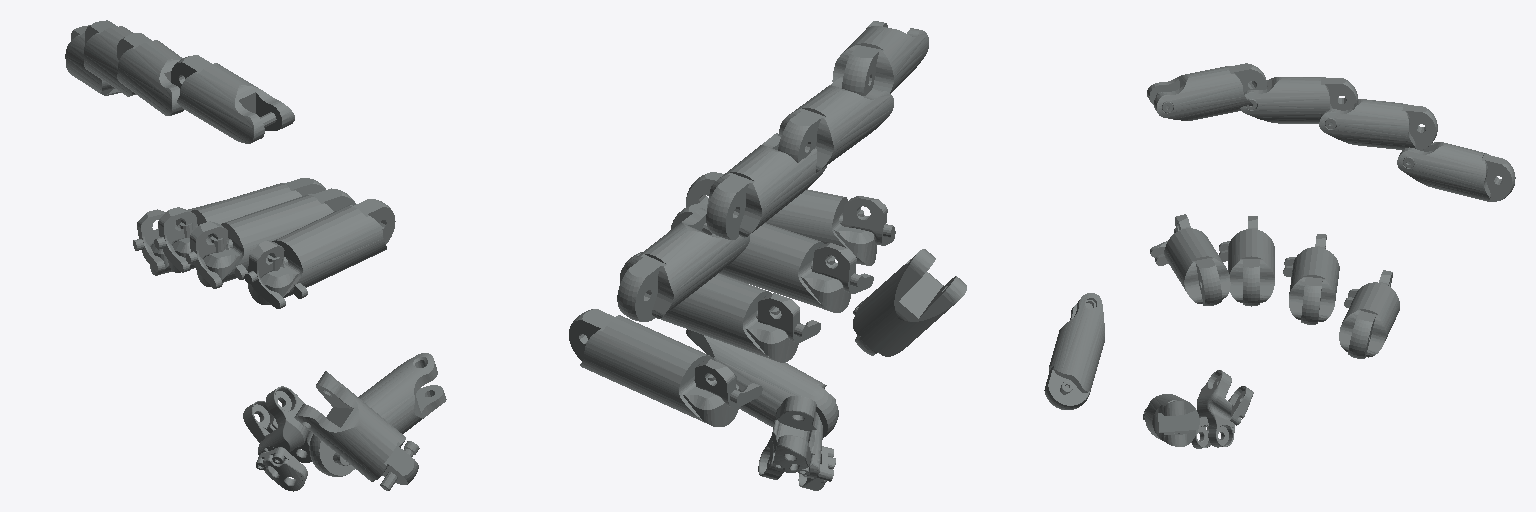
--- What the picture shows (computed from the rendered views, not written in the file) ---
3 views of the same robot in one strip: view 1: azimuth 30°, elevation 25°; view 2: azimuth 150°, elevation 25°; view 3: azimuth 270°, elevation 25° (orthographic).
Robot: wujihand-left-v1.0.1 — 26 links, 25 joints (20 revolute, 5 fixed); root link palm_link; default pose: all joints at 0.
Visible links, largest first — view 1: finger2_link2, finger1_link3, finger2_link3, finger1_link2, finger3_link2, finger1_link1, finger3_link3, finger4_link2, finger4_link3, finger2_link1, finger3_link1, finger4_link1 (+2 smaller); view 2: finger5_link2, finger5_link3, finger4_link3, finger1_link3, finger3_link2, finger4_link2, finger3_link3, finger1_link2, finger1_link1, finger2_link3, finger2_link2, finger3_link1 (+3 smaller); view 3: finger5_link3, finger1_link3, finger2_link3, finger4_link3, finger3_link3, finger2_link2, finger5_link2, finger4_link2, finger3_link2, finger1_link1, finger1_link2.
Link boxes in pixels (x1,y1,x2,y2): finger2_link2: (248, 199, 395, 304); finger1_link3: (294, 371, 419, 490); finger2_link3: (171, 55, 294, 143); finger1_link2: (309, 353, 446, 476); finger3_link2: (197, 188, 355, 286); finger1_link1: (243, 386, 312, 491); finger3_link3: (117, 33, 183, 115); finger4_link2: (168, 178, 325, 272); finger4_link3: (84, 20, 135, 96); finger2_link1: (244, 240, 307, 308); finger3_link1: (185, 221, 247, 288); finger4_link1: (154, 207, 197, 272); finger5_link2: (569, 309, 738, 426); finger5_link3: (617, 208, 749, 321); finger4_link3: (706, 133, 826, 239); finger1_link3: (853, 249, 966, 356); finger3_link2: (670, 203, 850, 312); finger4_link2: (620, 252, 798, 362); finger3_link3: (778, 77, 893, 172); finger1_link2: (686, 329, 838, 437); finger1_link1: (758, 396, 835, 490); finger2_link3: (832, 21, 928, 95); finger2_link2: (686, 172, 876, 265); finger3_link1: (811, 243, 873, 293); finger5_link3: (1397, 142, 1515, 201); finger1_link3: (1044, 293, 1104, 409); finger2_link3: (1147, 63, 1267, 120); finger4_link3: (1319, 99, 1437, 150); finger3_link3: (1240, 77, 1357, 123); finger2_link2: (1164, 228, 1230, 305); finger5_link2: (1339, 282, 1399, 358); finger4_link2: (1289, 247, 1339, 324); finger3_link2: (1228, 229, 1274, 306); finger1_link1: (1191, 370, 1253, 448); finger1_link2: (1143, 394, 1199, 446).
Size in the robot's own frame: 0.0717 by 0.151 by 0.1252 metres.
Meshes: 26 distinct files referenced, 15 mesh visuals loaded (15 binary STL); not drawn: 11 (reference not matched to a file when rendering).

robot.urdf — wujihand-left-v1.0.1:
<?xml version="1.0" encoding="utf-8"?>
<robot
  name="wujihand-left-v1.0.1">
  <link
    name="palm_link">
    <inertial>
      <origin
        xyz="-0.0029386 -0.0006128 0.036666"
        rpy="0 0 0" />
      <mass
        value="0.2179" />
      <inertia
        ixx="0.00066022"
        ixy="-2.5411E-06"
        ixz="2.4318E-05"
        iyy="0.0004381"
        iyz="4.5375E-05"
        izz="0.00029633" />
    </inertial>
    <visual>
      <origin
        xyz="0 0 0"
        rpy="0 0 0" />
      <geometry>
        <mesh
          filename="package://wujihand-urdf/meshes/left/palm_link.STL" />
      </geometry>
      <material
        name="">
        <color
          rgba="0.52941 0.54902 0.54902 1" />
      </material>
    </visual>
    <collision>
      <origin
        xyz="0 0 0"
        rpy="0 0 0" />
      <geometry>
        <mesh
          filename="package://wujihand-urdf/meshes/left/palm_link.STL" />
      </geometry>
    </collision>
  </link>
  <link
    name="finger1_link1">
    <inertial>
      <origin
        xyz="0.0077866 -0.0015915 0.0021115"
        rpy="0 0 0" />
      <mass
        value="0.0075" />
      <inertia
        ixx="3.7774E-07"
        ixy="-1.5296E-08"
        ixz="-7.9605E-08"
        iyy="4.5047E-07"
        iyz="-7.7314E-09"
        izz="4.0193E-07" />
    </inertial>
    <visual>
      <origin
        xyz="0 0 0"
        rpy="0 0 0" />
      <geometry>
        <mesh
          filename="package://wujihand-urdf/meshes/left/finger1_link1.STL" />
      </geometry>
      <material
        name="">
        <color
          rgba="0.52941 0.54902 0.54902 1" />
      </material>
    </visual>
    <collision>
      <origin
        xyz="0 0 0"
        rpy="0 0 0" />
      <geometry>
        <mesh
          filename="package://wujihand-urdf/meshes/left/finger1_link1.STL" />
      </geometry>
    </collision>
  </link>
  <joint
    name="finger1_joint1"
    type="revolute">
    <origin
      xyz="0.0085244 -0.020575 0.028712"
      rpy="0.38179 -0.2259 -0.92978" />
    <parent
      link="palm_link" />
    <child
      link="finger1_link1" />
    <axis
      xyz="0 0 -1" />
    <limit
      lower="-1.6508"
      upper="0.0448"
      effort="0.6"
      velocity="8.587" />
  </joint>
  <link
    name="finger1_link2">
    <inertial>
      <origin
        xyz="0.015665 0.0011444 2.8617E-05"
        rpy="0 0 0" />
      <mass
        value="0.0248" />
      <inertia
        ixx="1.1847E-06"
        ixy="2.639E-08"
        ixz="-1.9577E-08"
        iyy="4.7918E-06"
        iyz="-3.0153E-08"
        izz="4.8942E-06" />
    </inertial>
    <visual>
      <origin
        xyz="0 0 0"
        rpy="0 0 0" />
      <geometry>
        <mesh
          filename="package://wujihand-urdf/meshes/left/finger1_link2.STL" />
      </geometry>
      <material
        name="">
        <color
          rgba="0.52941 0.54902 0.54902 1" />
      </material>
    </visual>
    <collision>
      <origin
        xyz="0 0 0"
        rpy="0 0 0" />
      <geometry>
        <mesh
          filename="package://wujihand-urdf/meshes/left/finger1_link2.STL" />
      </geometry>
    </collision>
  </link>
  <joint
    name="finger1_joint2"
    type="revolute">
    <origin
      xyz="0.014132 -0.0047549 0.0060191"
      rpy="-1.6442 -0.32223 -0.53456" />
    <parent
      link="finger1_link1" />
    <child
      link="finger1_link2" />
    <axis
      xyz="0 0 -1" />
    <limit
      lower="-0.1659"
      upper="0.9339"
      effort="0.6"
      velocity="11.1" />
  </joint>
  <link
    name="finger1_link3">
    <inertial>
      <origin
        xyz="0.013057 -0.0011233 1.7104E-05"
        rpy="0 0 0" />
      <mass
        value="0.0165" />
      <inertia
        ixx="9.7983E-07"
        ixy="-4.8256E-08"
        ixz="2.8279E-09"
        iyy="3.1725E-06"
        iyz="-5.5362E-11"
        izz="3.1014E-06" />
    </inertial>
    <visual>
      <origin
        xyz="0 0 0"
        rpy="0 0 0" />
      <geometry>
        <mesh
          filename="package://wujihand-urdf/meshes/left/finger1_link3.STL" />
      </geometry>
      <material
        name="">
        <color
          rgba="0.52941 0.54902 0.54902 1" />
      </material>
    </visual>
    <collision>
      <origin
        xyz="0 0 0"
        rpy="0 0 0" />
      <geometry>
        <mesh
          filename="package://wujihand-urdf/meshes/left/finger1_link3.STL" />
      </geometry>
    </collision>
  </link>
  <joint
    name="finger1_joint3"
    type="revolute">
    <origin
      xyz="0.034664 0.00018873 0.0009916"
      rpy="1.909 -6.6317E-05 -0.052012" />
    <parent
      link="finger1_link2" />
    <child
      link="finger1_link3" />
    <axis
      xyz="0 0 1" />
    <limit
      lower="-0.4932"
      upper="1.6272"
      effort="0.3"
      velocity="12.863" />
  </joint>
  <link
    name="finger1_link4">
    <inertial>
      <origin
        xyz="0.0082112 -0.0011922 -0.00023586"
        rpy="0 0 0" />
      <mass
        value="0.0165" />
      <inertia
        ixx="6.2056E-07"
        ixy="-1.5552E-08"
        ixz="2.78E-09"
        iyy="1.0613E-06"
        iyz="-4.1371E-10"
        izz="1.0896E-06" />
    </inertial>
    <visual>
      <origin
        xyz="0 0 0"
        rpy="0 0 0" />
      <geometry>
        <mesh
          filename="package://wujihand-urdf/meshes/left/finger1_link4.STL" />
      </geometry>
      <material
        name="">
        <color
          rgba="0.52941 0.54902 0.54902 1" />
      </material>
    </visual>
    <collision>
      <origin
        xyz="0 0 0"
        rpy="0 0 0" />
      <geometry>
        <mesh
          filename="package://wujihand-urdf/meshes/left/finger1_link4.STL" />
      </geometry>
    </collision>
  </link>
  <joint
    name="finger1_joint4"
    type="revolute">
    <origin
      xyz="0.0295 0 0.00025125"
      rpy="0 0 0" />
    <parent
      link="finger1_link3" />
    <child
      link="finger1_link4" />
    <axis
      xyz="0 0 1" />
    <limit
      lower="-0.4932"
      upper="1.6272"
      effort="0.3"
      velocity="13.579" />
  </joint>
  <link
    name="finger1_tip_link">
    <inertial>
      <origin
        xyz="-0.0041779 -0.00018195 -7.9626E-06"
        rpy="0 0 0" />
      <mass
        value="0.004" />
      <inertia
        ixx="4.8332E-07"
        ixy="2.015E-08"
        ixz="-3.722E-12"
        iyy="5.4735E-07"
        iyz="1.4833E-11"
        izz="5.4481E-07" />
    </inertial>
    <visual>
      <origin
        xyz="0 0 0"
        rpy="0 0 0" />
      <geometry>
        <mesh
          filename="package://wujihand-urdf/meshes/left/finger1_tip_link.STL" />
      </geometry>
      <material
        name="">
        <color
          rgba="0.52941 0.54902 0.54902 1" />
      </material>
    </visual>
    <collision>
      <origin
        xyz="0 0 0"
        rpy="0 0 0" />
      <geometry>
        <mesh
          filename="package://wujihand-urdf/meshes/left/finger1_tip_link.STL" />
      </geometry>
    </collision>
  </link>
  <joint
    name="finger1_tip_fixed"
    type="fixed">
    <origin
      xyz="0.0283 -0.0010446 -0.00024656"
      rpy="0 0 0" />
    <parent
      link="finger1_link4" />
    <child
      link="finger1_tip_link" />
    <axis
      xyz="0 0 0" />
  </joint>
  <link
    name="finger2_link1">
    <inertial>
      <origin
        xyz="8.5597E-09 0.0013292 0.00031986"
        rpy="0 0 0" />
      <mass
        value="0.0032" />
      <inertia
        ixx="6.6291E-08"
        ixy="2.8907E-13"
        ixz="2.0012E-14"
        iyy="7.6187E-08"
        iyz="2.3233E-08"
        izz="7.0732E-08" />
    </inertial>
    <visual>
      <origin
        xyz="0 0 0"
        rpy="0 0 0" />
      <geometry>
        <mesh
          filename="package://wujihand-urdf/meshes/left/finger2_link1.STL" />
      </geometry>
      <material
        name="">
        <color
          rgba="0.52941 0.54902 0.54902 1" />
      </material>
    </visual>
    <collision>
      <origin
        xyz="0 0 0"
        rpy="0 0 0" />
      <geometry>
        <mesh
          filename="package://wujihand-urdf/meshes/left/finger2_link1.STL" />
      </geometry>
    </collision>
  </link>
  <joint
    name="finger2_joint1"
    type="revolute">
    <origin
      xyz="-0.0058701 -0.029434 0.091917"
      rpy="-0.071558 -0.11043 1.7969" />
    <parent
      link="palm_link" />
    <child
      link="finger2_link1" />
    <axis
      xyz="1 0 0" />
    <limit
      lower="-0.32695"
      upper="1.636"
      effort="1"
      velocity="8.203" />
  </joint>
  <link
    name="finger2_link2">
    <inertial>
      <origin
        xyz="0.020911 4.1956E-07 -0.0061576"
        rpy="0 0 0" />
      <mass
        value="0.033" />
      <inertia
        ixx="1.6351E-06"
        ixy="-4.5296E-10"
        ixz="-2.9306E-07"
        iyy="1.1709E-05"
        iyz="4.685E-11"
        izz="1.1667E-05" />
    </inertial>
    <visual>
      <origin
        xyz="0 0 0"
        rpy="0 0 0" />
      <geometry>
        <mesh
          filename="package://wujihand-urdf/meshes/left/finger2_link2.STL" />
      </geometry>
      <material
        name="">
        <color
          rgba="0.52941 0.54902 0.54902 1" />
      </material>
    </visual>
    <collision>
      <origin
        xyz="0 0 0"
        rpy="0 0 0" />
      <geometry>
        <mesh
          filename="package://wujihand-urdf/meshes/left/finger2_link2.STL" />
      </geometry>
    </collision>
  </link>
  <joint
    name="finger2_joint2"
    type="revolute">
    <origin
      xyz="0 -0.0022 0.004"
      rpy="1.5708 -1.5708 0" />
    <parent
      link="finger2_link1" />
    <child
      link="finger2_link2" />
    <axis
      xyz="0 0 1" />
    <limit
      lower="-0.495"
      upper="0.495"
      effort="0.2"
      velocity="8.1158" />
  </joint>
  <link
    name="finger2_link3">
    <inertial>
      <origin
        xyz="0.015762 -0.0011212 4.4346E-06"
        rpy="0 0 0" />
      <mass
        value="0.0165" />
      <inertia
        ixx="1.2547E-07"
        ixy="9.7115E-09"
        ixz="3.5406E-10"
        iyy="4.1467E-07"
        iyz="-5.2912E-12"
        izz="4.0546E-07" />
    </inertial>
    <visual>
      <origin
        xyz="0 0 0"
        rpy="0 0 0" />
      <geometry>
        <mesh
          filename="package://wujihand-urdf/meshes/left/finger2_link3.STL" />
      </geometry>
      <material
        name="">
        <color
          rgba="0.52941 0.54902 0.54902 1" />
      </material>
    </visual>
    <collision>
      <origin
        xyz="0 0 0"
        rpy="0 0 0" />
      <geometry>
        <mesh
          filename="package://wujihand-urdf/meshes/left/finger2_link3.STL" />
      </geometry>
    </collision>
  </link>
  <joint
    name="finger2_joint3"
    type="revolute">
    <origin
      xyz="0.043618 0 -0.00475"
      rpy="1.5705 0 0" />
    <parent
      link="finger2_link2" />
    <child
      link="finger2_link3" />
    <axis
      xyz="0 0 -1" />
    <limit
      lower="-1.6272"
      upper="0.4932"
      effort="0.3"
      velocity="12.863" />
  </joint>
  <link
    name="finger2_link4">
    <inertial>
      <origin
        xyz="0.0053515 -0.0008941 1.728E-05"
        rpy="0 0 0" />
      <mass
        value="0.014" />
      <inertia
        ixx="3.1641E-07"
        ixy="1.2437E-08"
        ixz="6.7383E-10"
        iyy="3.8841E-07"
        iyz="6.4931E-11"
        izz="2.7389E-07" />
    </inertial>
    <visual>
      <origin
        xyz="0 0 0"
        rpy="0 0 0" />
      <geometry>
        <mesh
          filename="package://wujihand-urdf/meshes/left/finger2_link4.STL" />
      </geometry>
      <material
        name="">
        <color
          rgba="0.52941 0.54902 0.54902 1" />
      </material>
    </visual>
    <collision>
      <origin
        xyz="0 0 0"
        rpy="0 0 0" />
      <geometry>
        <mesh
          filename="package://wujihand-urdf/meshes/left/finger2_link4.STL" />
      </geometry>
    </collision>
  </link>
  <joint
    name="finger2_joint4"
    type="revolute">
    <origin
      xyz="0.0295 0 0"
      rpy="0 0 0" />
    <parent
      link="finger2_link3" />
    <child
      link="finger2_link4" />
    <axis
      xyz="0 0 -1" />
    <limit
      lower="-1.6272"
      upper="0.4932"
      effort="0.3"
      velocity="13.579" />
  </joint>
  <link
    name="finger2_tip_link">
    <inertial>
      <origin
        xyz="-0.008611 -0.00020326 1.4382E-06"
        rpy="0 0 0" />
      <mass
        value="0.004" />
      <inertia
        ixx="4.7341E-07"
        ixy="2.4342E-08"
        ixz="-1.6843E-10"
        iyy="6.4345E-07"
        iyz="4.3043E-11"
        izz="6.3746E-07" />
    </inertial>
    <visual>
      <origin
        xyz="0 0 0"
        rpy="0 0 0" />
      <geometry>
        <mesh
          filename="package://wujihand-urdf/meshes/left/finger2_tip_link.STL" />
      </geometry>
      <material
        name="">
        <color
          rgba="0.52941 0.54902 0.54902 1" />
      </material>
    </visual>
    <collision>
      <origin
        xyz="0 0 0"
        rpy="0 0 0" />
      <geometry>
        <mesh
          filename="package://wujihand-urdf/meshes/left/finger2_tip_link.STL" />
      </geometry>
    </collision>
  </link>
  <joint
    name="finger2_tip_fixed"
    type="fixed">
    <origin
      xyz="0.0267 -0.00105 0"
      rpy="0 0 0" />
    <parent
      link="finger2_link4" />
    <child
      link="finger2_tip_link" />
    <axis
      xyz="0 0 0" />
  </joint>
  <link
    name="finger3_link1">
    <inertial>
      <origin
        xyz="8.8518E-09 0.0013292 0.00031987"
        rpy="0 0 0" />
      <mass
        value="0.0032" />
      <inertia
        ixx="6.6291E-08"
        ixy="1.9964E-13"
        ixz="3.1051E-14"
        iyy="7.6187E-08"
        iyz="2.3233E-08"
        izz="7.0732E-08" />
    </inertial>
    <visual>
      <origin
        xyz="0 0 0"
        rpy="0 0 0" />
      <geometry>
        <mesh
          filename="package://wujihand-urdf/meshes/left/finger3_link1.STL" />
      </geometry>
      <material
        name="">
        <color
          rgba="0.52941 0.54902 0.54902 1" />
      </material>
    </visual>
    <collision>
      <origin
        xyz="0 0 0"
        rpy="0 0 0" />
      <geometry>
        <mesh
          filename="package://wujihand-urdf/meshes/left/finger3_link1.STL" />
      </geometry>
    </collision>
  </link>
  <joint
    name="finger3_joint1"
    type="revolute">
    <origin
      xyz="-0.01046 -0.0074615 0.089544"
      rpy="-0.087266 -5.0693E-05 1.5702" />
    <parent
      link="palm_link" />
    <child
      link="finger3_link1" />
    <axis
      xyz="-1 0 0" />
    <limit
      lower="-1.63595"
      upper="0.32695"
      effort="1"
      velocity="8.203" />
  </joint>
  <link
    name="finger3_link2">
    <inertial>
      <origin
        xyz="0.020911 4.1751E-07 -0.0061576"
        rpy="0 0 0" />
      <mass
        value="0.033" />
      <inertia
        ixx="1.6351E-06"
        ixy="-4.5421E-10"
        ixz="-2.9307E-07"
        iyy="1.1709E-05"
        iyz="4.5277E-11"
        izz="1.1667E-05" />
    </inertial>
    <visual>
      <origin
        xyz="0 0 0"
        rpy="0 0 0" />
      <geometry>
        <mesh
          filename="package://wujihand-urdf/meshes/left/finger3_link2.STL" />
      </geometry>
      <material
        name="">
        <color
          rgba="0.52941 0.54902 0.54902 1" />
      </material>
    </visual>
    <collision>
      <origin
        xyz="0 0 0"
        rpy="0 0 0" />
      <geometry>
        <mesh
          filename="package://wujihand-urdf/meshes/left/finger3_link2.STL" />
      </geometry>
    </collision>
  </link>
  <joint
    name="finger3_joint2"
    type="revolute">
    <origin
      xyz="0 -0.0022 0.004"
      rpy="1.5708 -1.5708 0" />
    <parent
      link="finger3_link1" />
    <child
      link="finger3_link2" />
    <axis
      xyz="0 0 -1" />
    <limit
      lower="-0.495"
      upper="0.495"
      effort="0.2"
      velocity="8.115" />
  </joint>
  <link
    name="finger3_link3">
    <inertial>
      <origin
        xyz="0.015762 -0.0011212 4.4348E-06"
        rpy="0 0 0" />
      <mass
        value="0.0165" />
      <inertia
        ixx="9.7867E-07"
        ixy="7.575E-08"
        ixz="2.7623E-09"
        iyy="3.2344E-06"
        iyz="-4.1476E-11"
        izz="3.1626E-06" />
    </inertial>
    <visual>
      <origin
        xyz="0 0 0"
        rpy="0 0 0" />
      <geometry>
        <mesh
          filename="package://wujihand-urdf/meshes/left/finger3_link3.STL" />
      </geometry>
      <material
        name="">
        <color
          rgba="0.52941 0.54902 0.54902 1" />
      </material>
    </visual>
    <collision>
      <origin
        xyz="0 0 0"
        rpy="0 0 0" />
      <geometry>
        <mesh
          filename="package://wujihand-urdf/meshes/left/finger3_link3.STL" />
      </geometry>
    </collision>
  </link>
  <joint
    name="finger3_joint3"
    type="revolute">
    <origin
      xyz="0.043618 0 -0.00475"
      rpy="1.5705 0 0" />
    <parent
      link="finger3_link2" />
    <child
      link="finger3_link3" />
    <axis
      xyz="0 0 -1" />
    <limit
      lower="-1.6272"
      upper="0.4932"
      effort="0.3"
      velocity="12.863" />
  </joint>
  <link
    name="finger3_link4">
    <inertial>
      <origin
        xyz="0.0053515 -0.0008941 1.7281E-05"
        rpy="0 0 0" />
      <mass
        value="0.014" />
      <inertia
        ixx="3.1641E-07"
        ixy="1.2437E-08"
        ixz="6.7377E-10"
        iyy="3.8841E-07"
        iyz="6.5066E-11"
        izz="2.7389E-07" />
    </inertial>
    <visual>
      <origin
        xyz="0 0 0"
        rpy="0 0 0" />
      <geometry>
        <mesh
          filename="package://wujihand-urdf/meshes/left/finger3_link4.STL" />
      </geometry>
      <material
        name="">
        <color
          rgba="0.52941 0.54902 0.54902 1" />
      </material>
    </visual>
    <collision>
      <origin
        xyz="0 0 0"
        rpy="0 0 0" />
      <geometry>
        <mesh
          filename="package://wujihand-urdf/meshes/left/finger3_link4.STL" />
      </geometry>
    </collision>
  </link>
  <joint
    name="finger3_joint4"
    type="revolute">
    <origin
      xyz="0.0295 0 0"
      rpy="0 0 0" />
    <parent
      link="finger3_link3" />
    <child
      link="finger3_link4" />
    <axis
      xyz="0 0 -1" />
    <limit
      lower="-1.6272"
      upper="0.4932"
      effort="0.3"
      velocity="13.579" />
  </joint>
  <link
    name="finger3_tip_link">
    <inertial>
      <origin
        xyz="-0.0086111 -0.00020296 -1.0223E-05"
        rpy="0 0 0" />
      <mass
        value="0.004" />
      <inertia
        ixx="4.734E-07"
        ixy="2.4301E-08"
        ixz="1.2293E-09"
        iyy="6.4343E-07"
        iyz="3.8698E-10"
        izz="6.3748E-07" />
    </inertial>
    <visual>
      <origin
        xyz="0 0 0"
        rpy="0 0 0" />
      <geometry>
        <mesh
          filename="package://wujihand-urdf/meshes/left/finger3_tip_link.STL" />
      </geometry>
      <material
        name="">
        <color
          rgba="0.52941 0.54902 0.54902 1" />
      </material>
    </visual>
    <collision>
      <origin
        xyz="0 0 0"
        rpy="0 0 0" />
      <geometry>
        <mesh
          filename="package://wujihand-urdf/meshes/left/finger3_tip_link.STL" />
      </geometry>
    </collision>
  </link>
  <joint
    name="finger3_tip_fixed"
    type="fixed">
    <origin
      xyz="0.0267 -0.0010501 0"
      rpy="0 0 0" />
    <parent
      link="finger3_link4" />
    <child
      link="finger3_tip_link" />
    <axis
      xyz="0 0 0" />
  </joint>
  <link
    name="finger4_link1">
    <inertial>
      <origin
        xyz="8.6118E-09 0.0013292 0.00031987"
        rpy="0 0 0" />
      <mass
        value="0.0032" />
      <inertia
        ixx="6.6291E-08"
        ixy="1.7489E-13"
        ixz="3.6221E-14"
        iyy="7.6187E-08"
        iyz="2.3233E-08"
        izz="7.0732E-08" />
    </inertial>
    <visual>
      <origin
        xyz="0 0 0"
        rpy="0 0 0" />
      <geometry>
        <mesh
          filename="package://wujihand-urdf/meshes/left/finger4_link1.STL" />
      </geometry>
      <material
        name="">
        <color
          rgba="0.52941 0.54902 0.54902 1" />
      </material>
    </visual>
    <collision>
      <origin
        xyz="0 0 0"
        rpy="0 0 0" />
      <geometry>
        <mesh
          filename="package://wujihand-urdf/meshes/left/finger4_link1.STL" />
      </geometry>
    </collision>
  </link>
  <joint
    name="finger4_joint1"
    type="revolute">
    <origin
      xyz="-0.0076649 0.013712 0.084429"
      rpy="-0.083776 0.090059 1.5161" />
    <parent
      link="palm_link" />
    <child
      link="finger4_link1" />
    <axis
      xyz="-1 0 0" />
    <limit
      lower="-1.63595"
      upper="0.32695"
      effort="1"
      velocity="8.203" />
  </joint>
  <link
    name="finger4_link2">
    <inertial>
      <origin
        xyz="0.020911 4.1777E-07 -0.0061576"
        rpy="0 0 0" />
      <mass
        value="0.033" />
      <inertia
        ixx="1.6351E-06"
        ixy="-4.5403E-10"
        ixz="-2.9307E-07"
        iyy="1.1709E-05"
        iyz="4.5361E-11"
        izz="1.1667E-05" />
    </inertial>
    <visual>
      <origin
        xyz="0 0 0"
        rpy="0 0 0" />
      <geometry>
        <mesh
          filename="package://wujihand-urdf/meshes/left/finger4_link2.STL" />
      </geometry>
      <material
        name="">
        <color
          rgba="0.52941 0.54902 0.54902 1" />
      </material>
    </visual>
    <collision>
      <origin
        xyz="0 0 0"
        rpy="0 0 0" />
      <geometry>
        <mesh
          filename="package://wujihand-urdf/meshes/left/finger4_link2.STL" />
      </geometry>
    </collision>
  </link>
  <joint
    name="finger4_joint2"
    type="revolute">
    <origin
      xyz="0 -0.0022 0.004"
      rpy="1.5708 -1.5708 0" />
    <parent
      link="finger4_link1" />
    <child
      link="finger4_link2" />
    <axis
      xyz="0 0 -1" />
    <limit
      lower="-0.495"
      upper="0.495"
      effort="0.2"
      velocity="8.1158" />
  </joint>
  <link
    name="finger4_link3">
    <inertial>
      <origin
        xyz="0.015762 -0.0011212 4.435E-06"
        rpy="0 0 0" />
      <mass
        value="0.0165" />
      <inertia
        ixx="9.7867E-07"
        ixy="7.575E-08"
        ixz="2.7625E-09"
        iyy="3.2344E-06"
        iyz="-4.1504E-11"
        izz="3.1626E-06" />
    </inertial>
    <visual>
      <origin
        xyz="0 0 0"
        rpy="0 0 0" />
      <geometry>
        <mesh
          filename="package://wujihand-urdf/meshes/left/finger4_link3.STL" />
      </geometry>
      <material
        name="">
        <color
          rgba="0.52941 0.54902 0.54902 1" />
      </material>
    </visual>
    <collision>
      <origin
        xyz="0 0 0"
        rpy="0 0 0" />
      <geometry>
        <mesh
          filename="package://wujihand-urdf/meshes/left/finger4_link3.STL" />
      </geometry>
    </collision>
  </link>
  <joint
    name="finger4_joint3"
    type="revolute">
    <origin
      xyz="0.043618 0 -0.00475"
      rpy="1.5705 0 0" />
    <parent
      link="finger4_link2" />
    <child
      link="finger4_link3" />
    <axis
      xyz="0 0 -1" />
    <limit
      lower="-1.6272"
      upper="0.4932"
      effort="0.3"
      velocity="12.863" />
  </joint>
  <link
    name="finger4_link4">
    <inertial>
      <origin
        xyz="0.0053515 -0.0008941 1.7282E-05"
        rpy="0 0 0" />
      <mass
        value="0.014" />
      <inertia
        ixx="3.1641E-07"
        ixy="1.2437E-08"
        ixz="6.7382E-10"
        iyy="3.8841E-07"
        iyz="6.5108E-11"
        izz="2.7389E-07" />
    </inertial>
    <visual>
      <origin
        xyz="0 0 0"
        rpy="0 0 0" />
      <geometry>
        <mesh
          filename="package://wujihand-urdf/meshes/left/finger4_link4.STL" />
      </geometry>
      <material
        name="">
        <color
          rgba="0.52941 0.54902 0.54902 1" />
      </material>
    </visual>
    <collision>
      <origin
        xyz="0 0 0"
        rpy="0 0 0" />
      <geometry>
        <mesh
          filename="package://wujihand-urdf/meshes/left/finger4_link4.STL" />
      </geometry>
    </collision>
  </link>
  <joint
    name="finger4_joint4"
    type="revolute">
    <origin
      xyz="0.0295 0 0"
      rpy="0 0 0" />
    <parent
      link="finger4_link3" />
    <child
      link="finger4_link4" />
    <axis
      xyz="0 0 -1" />
    <limit
      lower="-1.6272"
      upper="0.4932"
      effort="0.3"
      velocity="13.579" />
  </joint>
  <link
    name="finger4_tip_link">
    <inertial>
      <origin
        xyz="-0.008611 -0.0001955 5.5653E-05"
        rpy="0 0 0" />
      <mass
        value="0.004" />
      <inertia
        ixx="4.7341E-07"
        ixy="2.3414E-08"
        ixz="-6.6606E-09"
        iyy="6.4304E-07"
        iyz="-1.5033E-09"
        izz="6.3787E-07" />
    </inertial>
    <visual>
      <origin
        xyz="0 0 0"
        rpy="0 0 0" />
      <geometry>
        <mesh
          filename="package://wujihand-urdf/meshes/left/finger4_tip_link.STL" />
      </geometry>
      <material
        name="">
        <color
          rgba="0.52941 0.54902 0.54902 1" />
      </material>
    </visual>
    <collision>
      <origin
        xyz="0 0 0"
        rpy="0 0 0" />
      <geometry>
        <mesh
          filename="package://wujihand-urdf/meshes/left/finger4_tip_link.STL" />
      </geometry>
    </collision>
  </link>
  <joint
    name="finger4_tip_fixed"
    type="fixed">
    <origin
      xyz="0.0267 -0.0010573 0"
      rpy="0 0 0" />
    <parent
      link="finger4_link4" />
    <child
      link="finger4_tip_link" />
    <axis
      xyz="0 0 0" />
  </joint>
  <link
    name="finger5_link1">
    <inertial>
      <origin
        xyz="8.147E-09 0.0013292 0.00031987"
        rpy="0 0 0" />
      <mass
        value="0.0032" />
      <inertia
        ixx="6.6291E-08"
        ixy="1.2911E-13"
        ixz="4.2957E-14"
        iyy="7.6187E-08"
        iyz="2.3232E-08"
        izz="7.0732E-08" />
    </inertial>
    <visual>
      <origin
        xyz="0 0 0"
        rpy="0 0 0" />
      <geometry>
        <mesh
          filename="package://wujihand-urdf/meshes/left/finger5_link1.STL" />
      </geometry>
      <material
        name="">
        <color
          rgba="0.52941 0.54902 0.54902 1" />
      </material>
    </visual>
    <collision>
      <origin
        xyz="0 0 0"
        rpy="0 0 0" />
      <geometry>
        <mesh
          filename="package://wujihand-urdf/meshes/left/finger5_link1.STL" />
      </geometry>
    </collision>
  </link>
  <joint
    name="finger5_joint1"
    type="revolute">
    <origin
      xyz="-0.0022687 0.034001 0.074281"
      rpy="-0.094248 0.19165 1.3951" />
    <parent
      link="palm_link" />
    <child
      link="finger5_link1" />
    <axis
      xyz="1 0 0" />
    <limit
      lower="-0.32695"
      upper="1.636"
      effort="1"
      velocity="8.203" />
  </joint>
  <link
    name="finger5_link2">
    <inertial>
      <origin
        xyz="0.020911 4.2003E-07 -0.0061576"
        rpy="0 0 0" />
      <mass
        value="0.033" />
      <inertia
        ixx="1.6351E-06"
        ixy="-4.5138E-10"
        ixz="-2.9307E-07"
        iyy="1.1709E-05"
        iyz="4.5514E-11"
        izz="1.1667E-05" />
    </inertial>
    <visual>
      <origin
        xyz="0 0 0"
        rpy="0 0 0" />
      <geometry>
        <mesh
          filename="package://wujihand-urdf/meshes/left/finger5_link2.STL" />
      </geometry>
      <material
        name="">
        <color
          rgba="0.52941 0.54902 0.54902 1" />
      </material>
    </visual>
    <collision>
      <origin
        xyz="0 0 0"
        rpy="0 0 0" />
      <geometry>
        <mesh
          filename="package://wujihand-urdf/meshes/left/finger5_link2.STL" />
      </geometry>
    </collision>
  </link>
  <joint
    name="finger5_joint2"
    type="revolute">
    <origin
      xyz="0 -0.0022 0.004"
      rpy="-0.0067566 -1.5708 1.5776" />
    <parent
      link="finger5_link1" />
    <child
      link="finger5_link2" />
    <axis
      xyz="0 0 -1" />
    <limit
      lower="-0.495"
      upper="0.495"
      effort="0.2"
      velocity="8.1158" />
  </joint>
  <link
    name="finger5_link3">
    <inertial>
      <origin
        xyz="0.015762 -0.0011212 4.4351E-06"
        rpy="0 0 0" />
      <mass
        value="0.0165" />
      <inertia
        ixx="9.7867E-07"
        ixy="7.575E-08"
        ixz="2.7623E-09"
        iyy="3.2344E-06"
        iyz="-4.1485E-11"
        izz="3.1626E-06" />
    </inertial>
    <visual>
      <origin
        xyz="0 0 0"
        rpy="0 0 0" />
      <geometry>
        <mesh
          filename="package://wujihand-urdf/meshes/left/finger5_link3.STL" />
      </geometry>
      <material
        name="">
        <color
          rgba="0.52941 0.54902 0.54902 1" />
      </material>
    </visual>
    <collision>
      <origin
        xyz="0 0 0"
        rpy="0 0 0" />
      <geometry>
        <mesh
          filename="package://wujihand-urdf/meshes/left/finger5_link3.STL" />
      </geometry>
    </collision>
  </link>
  <joint
    name="finger5_joint3"
    type="revolute">
    <origin
      xyz="0.043618 0 -0.00475"
      rpy="1.5705 0 0" />
    <parent
      link="finger5_link2" />
    <child
      link="finger5_link3" />
    <axis
      xyz="0 0 -1" />
    <limit
      lower="-1.6272"
      upper="0.4932"
      effort="0.3"
      velocity="12.863" />
  </joint>
  <link
    name="finger5_link4">
    <inertial>
      <origin
        xyz="0.0053515 -0.0008941 1.7282E-05"
        rpy="0 0 0" />
      <mass
        value="0.014" />
      <inertia
        ixx="3.1641E-07"
        ixy="1.2437E-08"
        ixz="6.7385E-10"
        iyy="3.8841E-07"
        iyz="6.5073E-11"
        izz="2.7389E-07" />
    </inertial>
    <visual>
      <origin
        xyz="0 0 0"
        rpy="0 0 0" />
      <geometry>
        <mesh
          filename="package://wujihand-urdf/meshes/left/finger5_link4.STL" />
      </geometry>
      <material
        name="">
        <color
          rgba="0.52941 0.54902 0.54902 1" />
      </material>
    </visual>
    <collision>
      <origin
        xyz="0 0 0"
        rpy="0 0 0" />
      <geometry>
        <mesh
          filename="package://wujihand-urdf/meshes/left/finger5_link4.STL" />
      </geometry>
    </collision>
  </link>
  <joint
    name="finger5_joint4"
    type="revolute">
    <origin
      xyz="0.0295 0 0"
      rpy="0 0 0" />
    <parent
      link="finger5_link3" />
    <child
      link="finger5_link4" />
    <axis
      xyz="0 0 1" />
    <limit
      lower="-0.4932"
      upper="1.6272"
      effort="0.3"
      velocity="13.579" />
  </joint>
  <link
    name="finger5_tip_link">
    <inertial>
      <origin
        xyz="-0.008611 -0.00020323 3.5536E-06"
        rpy="0 0 0" />
      <mass
        value="0.004" />
      <inertia
        ixx="4.7341E-07"
        ixy="2.4339E-08"
        ixz="-4.2048E-10"
        iyy="6.4345E-07"
        iyz="-1.9248E-11"
        izz="6.3746E-07" />
    </inertial>
    <visual>
      <origin
        xyz="0 0 0"
        rpy="0 0 0" />
      <geometry>
        <mesh
          filename="package://wujihand-urdf/meshes/left/finger5_tip_link.STL" />
      </geometry>
      <material
        name="">
        <color
          rgba="0.52941 0.54902 0.54902 1" />
      </material>
    </visual>
    <collision>
      <origin
        xyz="0 0 0"
        rpy="0 0 0" />
      <geometry>
        <mesh
          filename="package://wujihand-urdf/meshes/left/finger5_tip_link.STL" />
      </geometry>
    </collision>
  </link>
  <joint
    name="finger5_tip_fixed"
    type="fixed">
    <origin
      xyz="0.0267 -0.0010582 0"
      rpy="0 0 0" />
    <parent
      link="finger5_link4" />
    <child
      link="finger5_tip_link" />
    <axis
      xyz="0 0 0" />
  </joint>
</robot>
